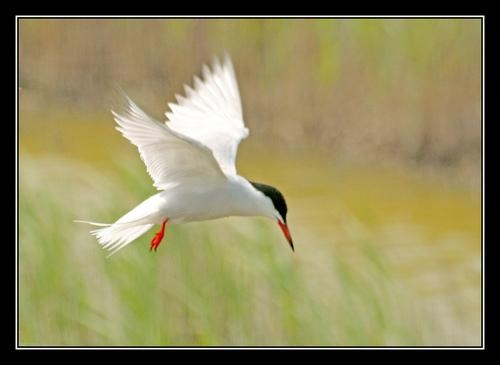bird: (90, 48, 296, 261)
